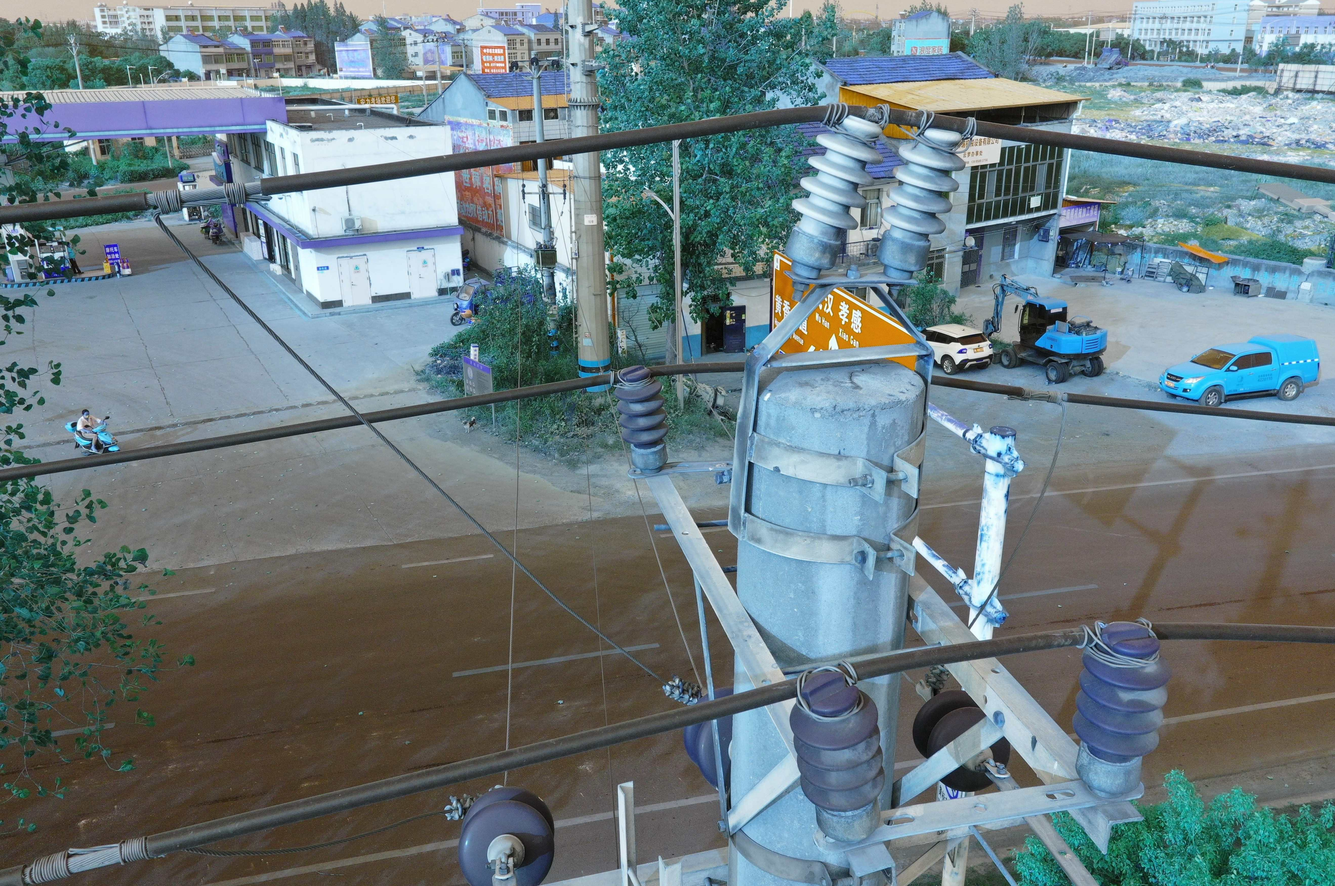severe_soiling_no_discharge_whole: (1064, 617, 1177, 799), (783, 670, 891, 846)
